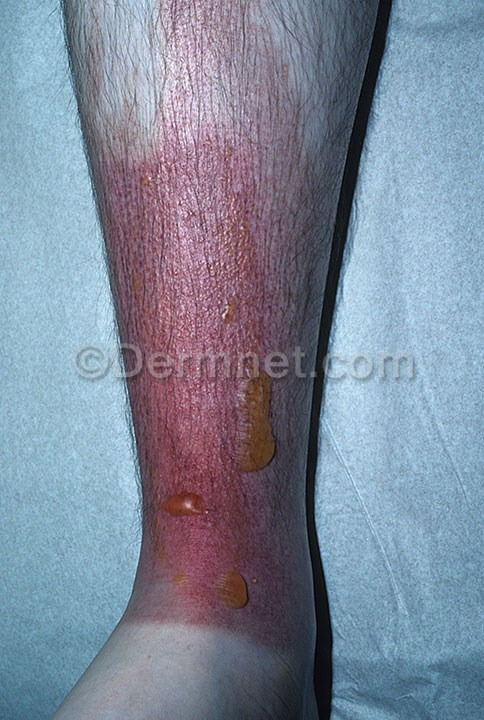Melasma: (0, 194, 276, 583), (71, 0, 219, 83)
